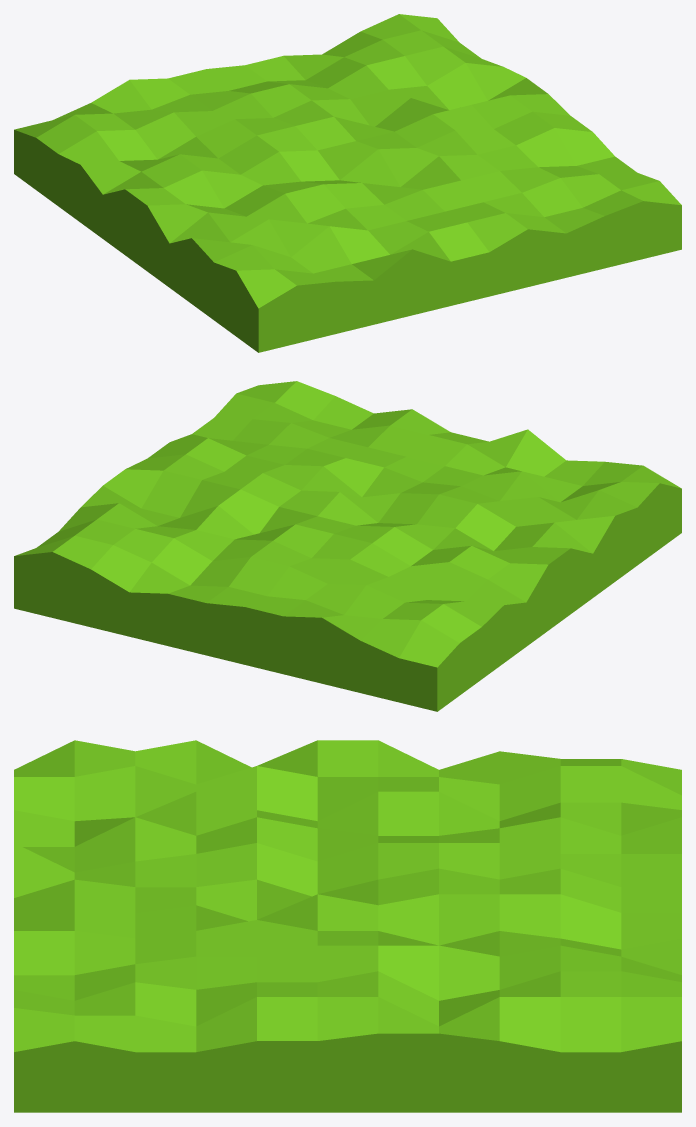
File: ground_floor.glb
3 views of the same model, one above another, from view 1: azimuth 30°, elevation 25°; view 2: azimuth 150°, elevation 25°; view 3: azimuth 270°, elevation 25° (orthographic). The views are drawn at different scales.
Parts seen in each view (by area): view 1: Ground; view 2: Ground; view 3: Ground.
Boxes of the visible parts, left/top/right/bottom form: Ground: left=14, top=14, right=681, bottom=352; Ground: left=14, top=381, right=681, bottom=711; Ground: left=14, top=740, right=681, bottom=1112.
Size of the model in its own units: 20 by 2.98 by 20.
